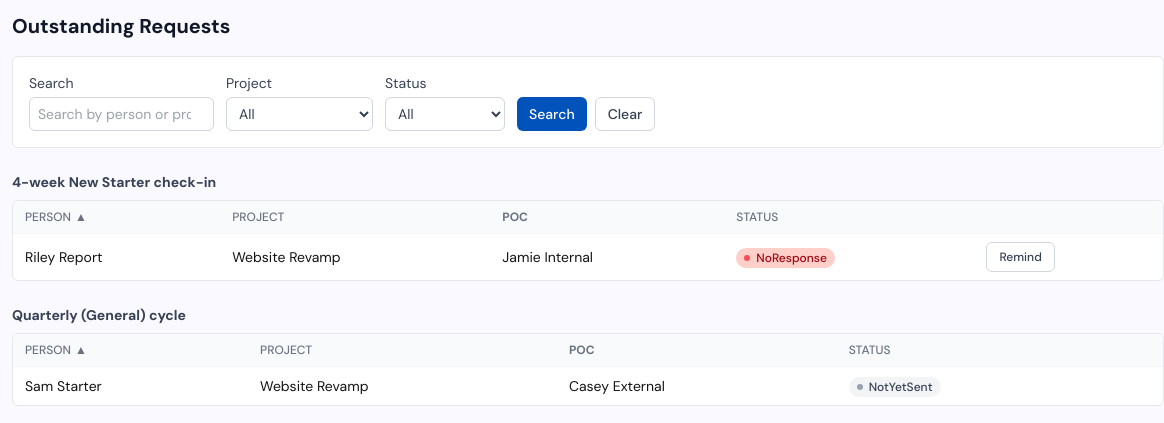
Test: OutstandingRequestsPage › filters by search text, matching person or project name
Check: the text "Riley Report" is shown, box [13,234,220,280]
Type "Sam" into the search field labelled "Search" at {"x": 122, "y": 114}, box [29,97,214,131]
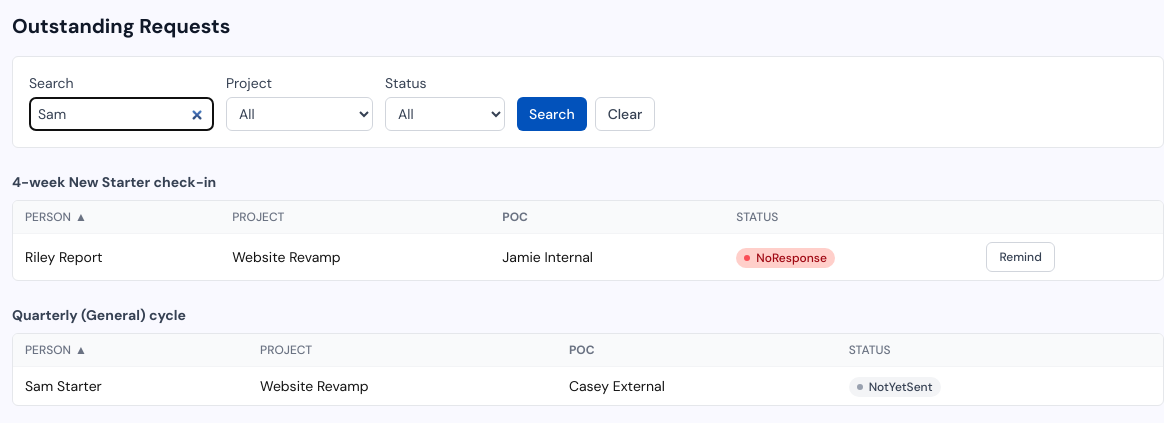
Click the button "Search" at {"x": 552, "y": 114}, box [517,97,587,131]
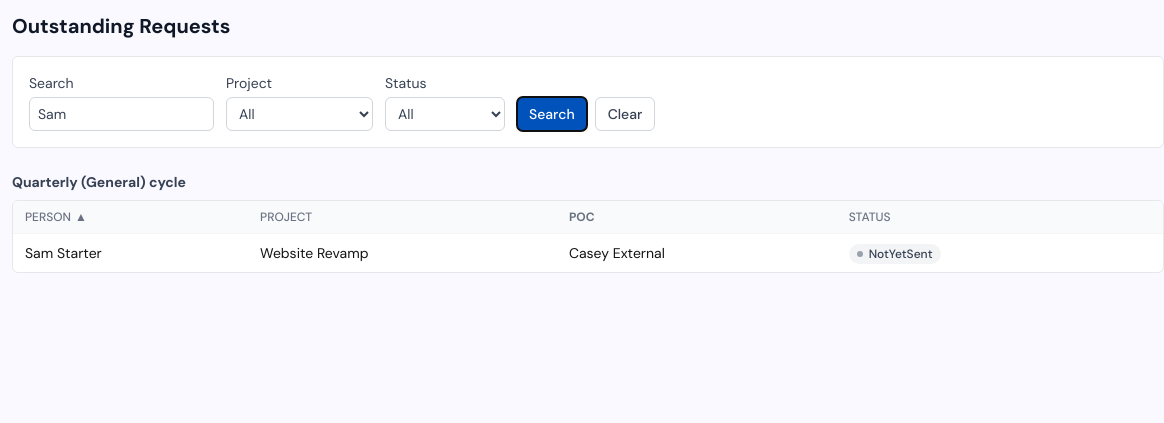
Check: the text "Sam Starter" is shown, box [13,234,248,272]
Check: the text "Riley Report" is gone
